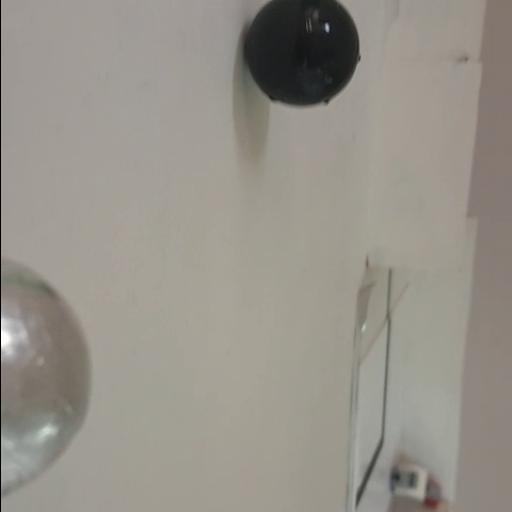alive: (0, 254, 98, 504)
dead: (236, 0, 362, 108)
